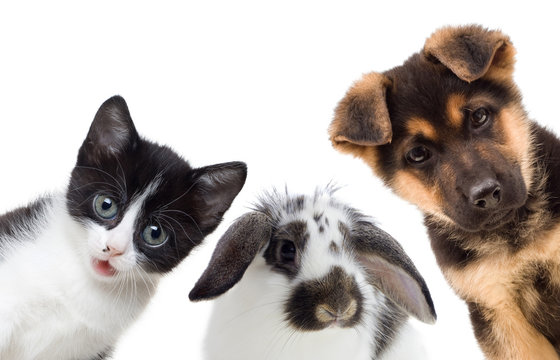cat: (58, 106, 204, 266)
dog: (345, 43, 542, 224)
rabbit: (235, 172, 405, 347)
